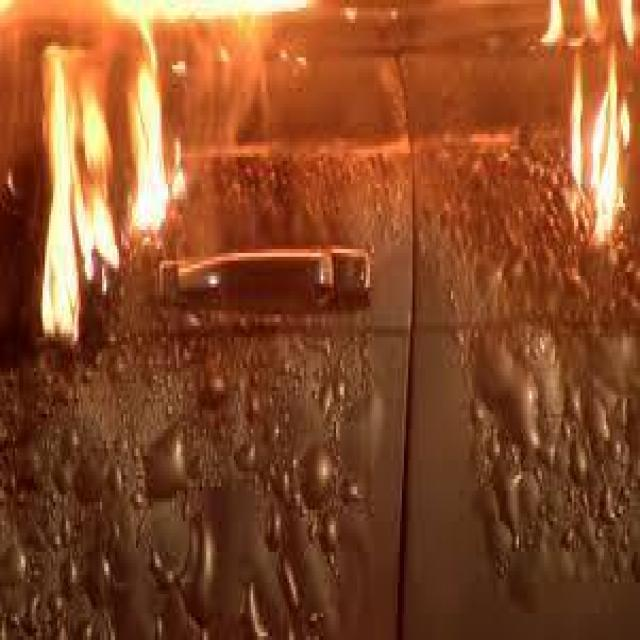fire: (20, 8, 195, 360), (501, 8, 628, 276)
